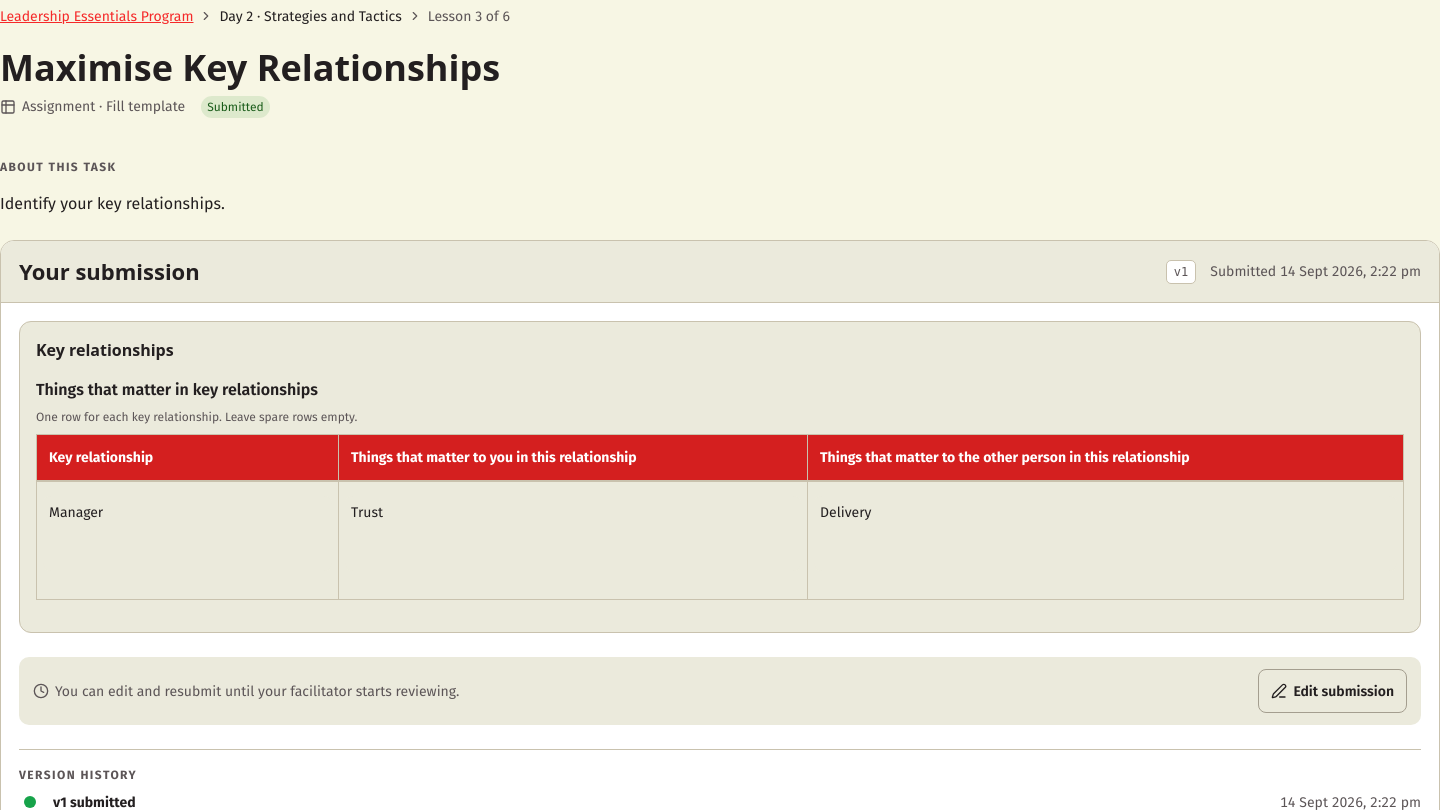
Test: handed-in work, before review starts › goes back to the submitted version on Discard changes
Click the button "Edit submission": click(1333, 691) [1258,669,1407,713]
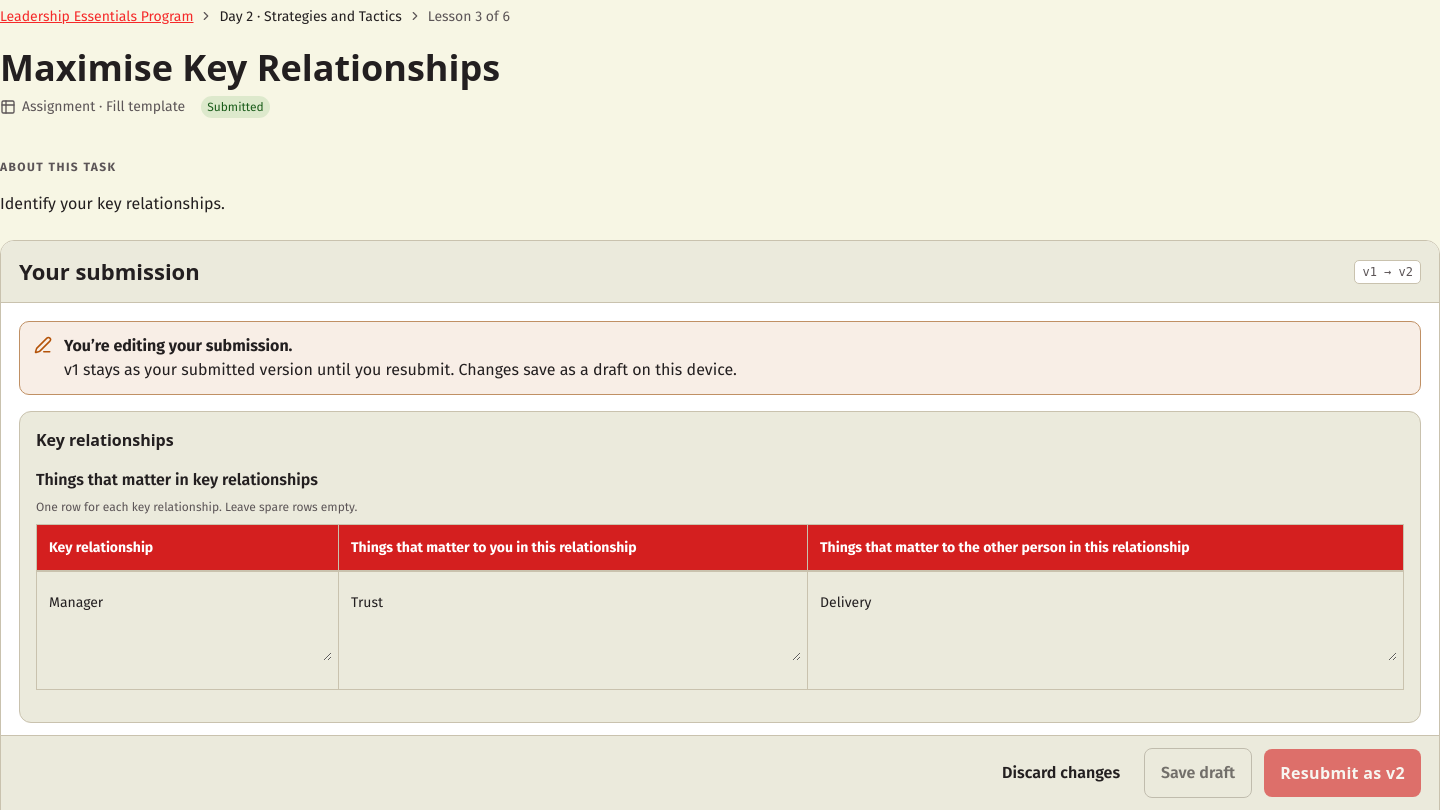
Click the button "Discard changes": click(1061, 773) [990,751,1132,795]
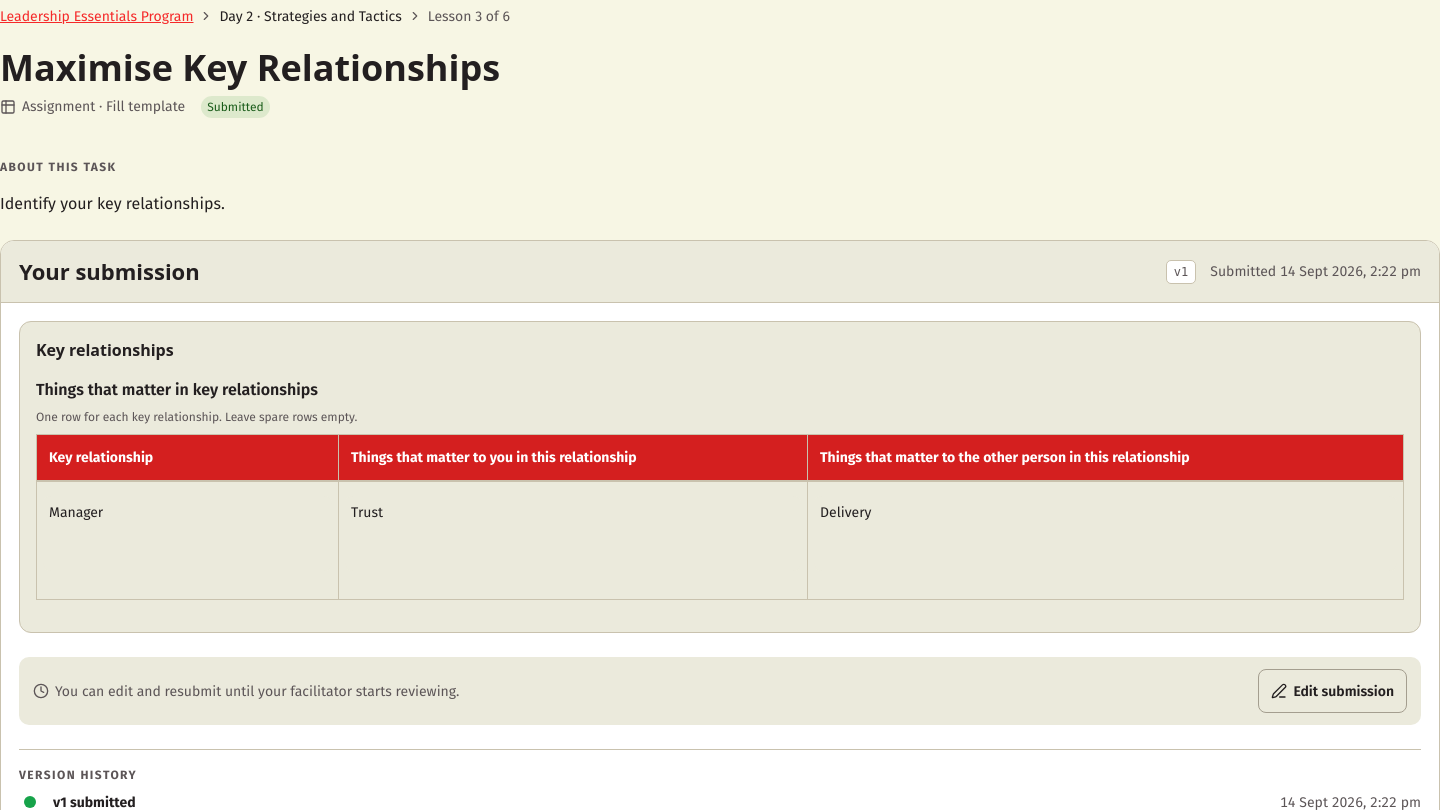
Check: the element with class "mbw-form-template--locked" is shown, box [19,321,1421,633]
Check: the button "Edit submission" is shown, box [1258,669,1407,713]
